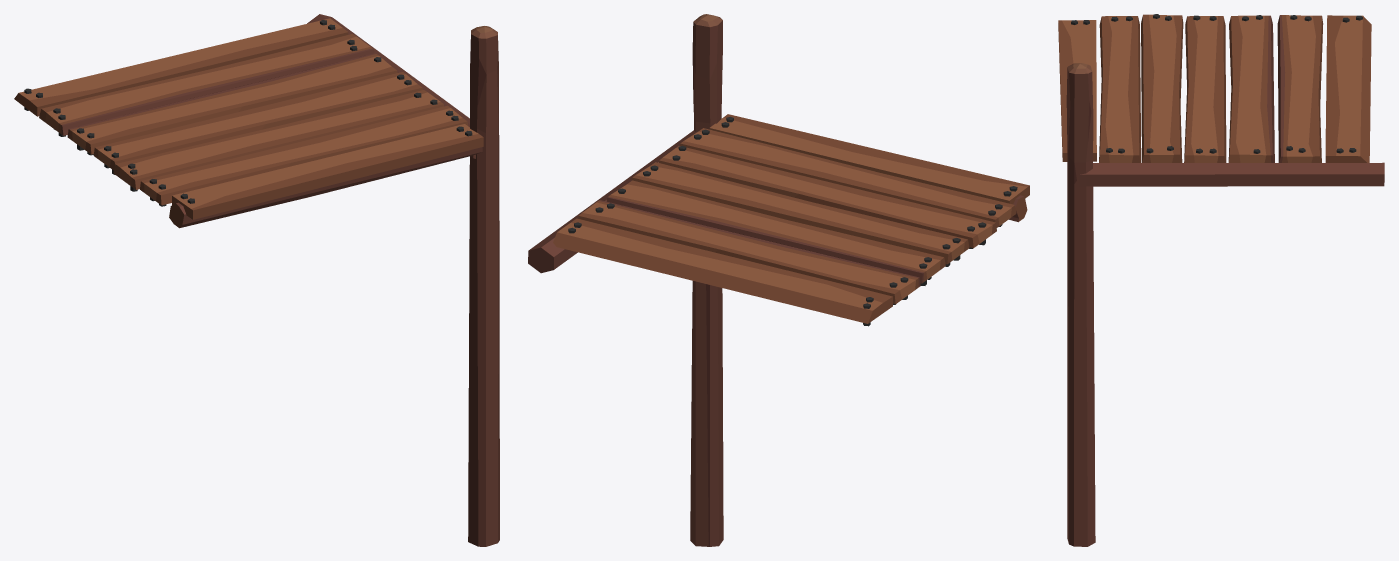
File: landing_stage_middle.fbx
The picture shows the model from 3 angles, left to right: view 1: azimuth 30°, elevation 25°; view 2: azimuth 150°, elevation 25°; view 3: azimuth 270°, elevation 25°; orthographic projection. The views are drawn at different scales.
Visible parts, largest first — view 1: landing_stage_middle; view 2: landing_stage_middle; view 3: landing_stage_middle.
Part boxes in pixels (x1,y1,x2,y2): landing_stage_middle: (14, 14, 499, 546); landing_stage_middle: (528, 14, 1029, 546); landing_stage_middle: (1058, 14, 1384, 546).
Bounding box in the file's own units: 163 × 244 × 151.
